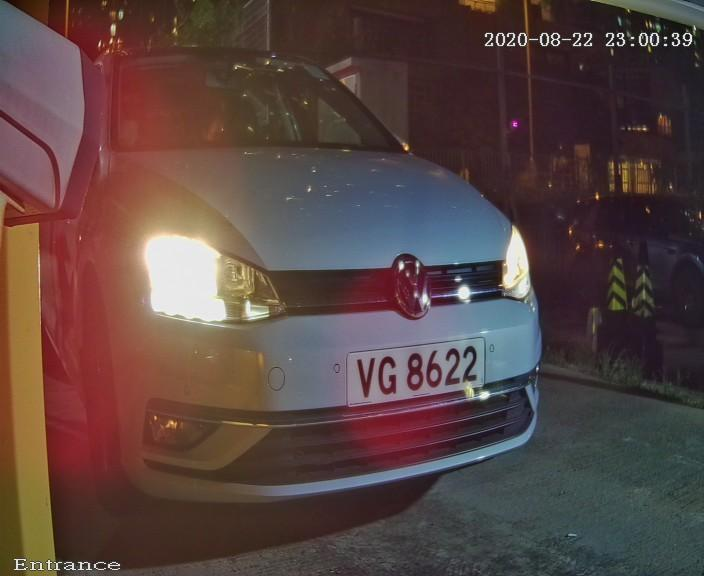Car: (1, 19, 632, 543)
License Plate: (332, 304, 535, 413)
